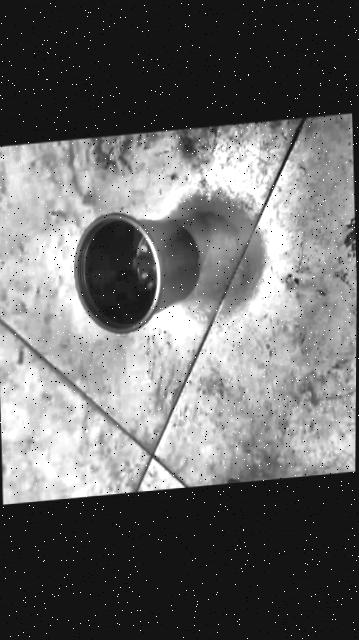pot: (70, 205, 200, 339)
